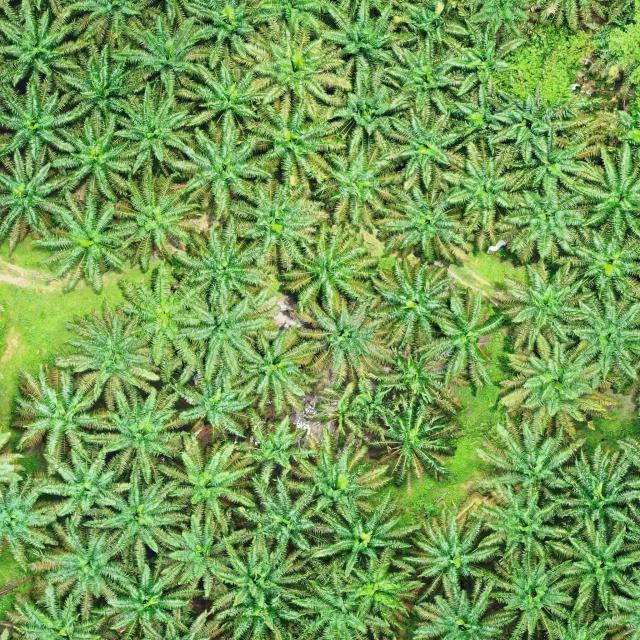Tree: (228, 12, 359, 129), (22, 509, 140, 619), (52, 294, 164, 409), (205, 530, 315, 640), (284, 421, 396, 527), (238, 93, 350, 197), (168, 116, 274, 222), (171, 208, 271, 320), (497, 332, 603, 437), (282, 295, 399, 390), (82, 462, 194, 560), (439, 131, 531, 250), (366, 254, 470, 359), (410, 280, 507, 392), (31, 184, 127, 296), (489, 256, 601, 352), (548, 434, 640, 549), (87, 379, 183, 489), (107, 162, 202, 272), (230, 468, 340, 562), (380, 181, 490, 275), (312, 484, 424, 576), (472, 412, 590, 498), (372, 100, 475, 198), (304, 137, 402, 239), (115, 262, 208, 367), (152, 438, 253, 534), (349, 396, 456, 486), (544, 522, 640, 620), (11, 370, 111, 464), (106, 8, 210, 98), (328, 47, 408, 162), (154, 506, 253, 598), (439, 14, 531, 112), (0, 77, 87, 180), (33, 441, 137, 527), (479, 79, 584, 163), (171, 291, 270, 380), (231, 321, 323, 416), (47, 106, 136, 204), (378, 25, 467, 122), (0, 0, 90, 95), (396, 514, 500, 596), (98, 554, 197, 640), (296, 557, 398, 640), (110, 86, 198, 182), (468, 481, 569, 564), (561, 286, 640, 392), (492, 181, 590, 266), (0, 144, 70, 260), (551, 218, 640, 308), (568, 133, 640, 244), (248, 178, 333, 270), (317, 0, 403, 88), (510, 116, 609, 192), (332, 546, 426, 625), (483, 558, 572, 640), (278, 225, 363, 308), (170, 367, 262, 443), (232, 404, 320, 483), (57, 34, 136, 122), (175, 57, 264, 134), (408, 575, 508, 640), (376, 342, 462, 410), (306, 378, 378, 445)
